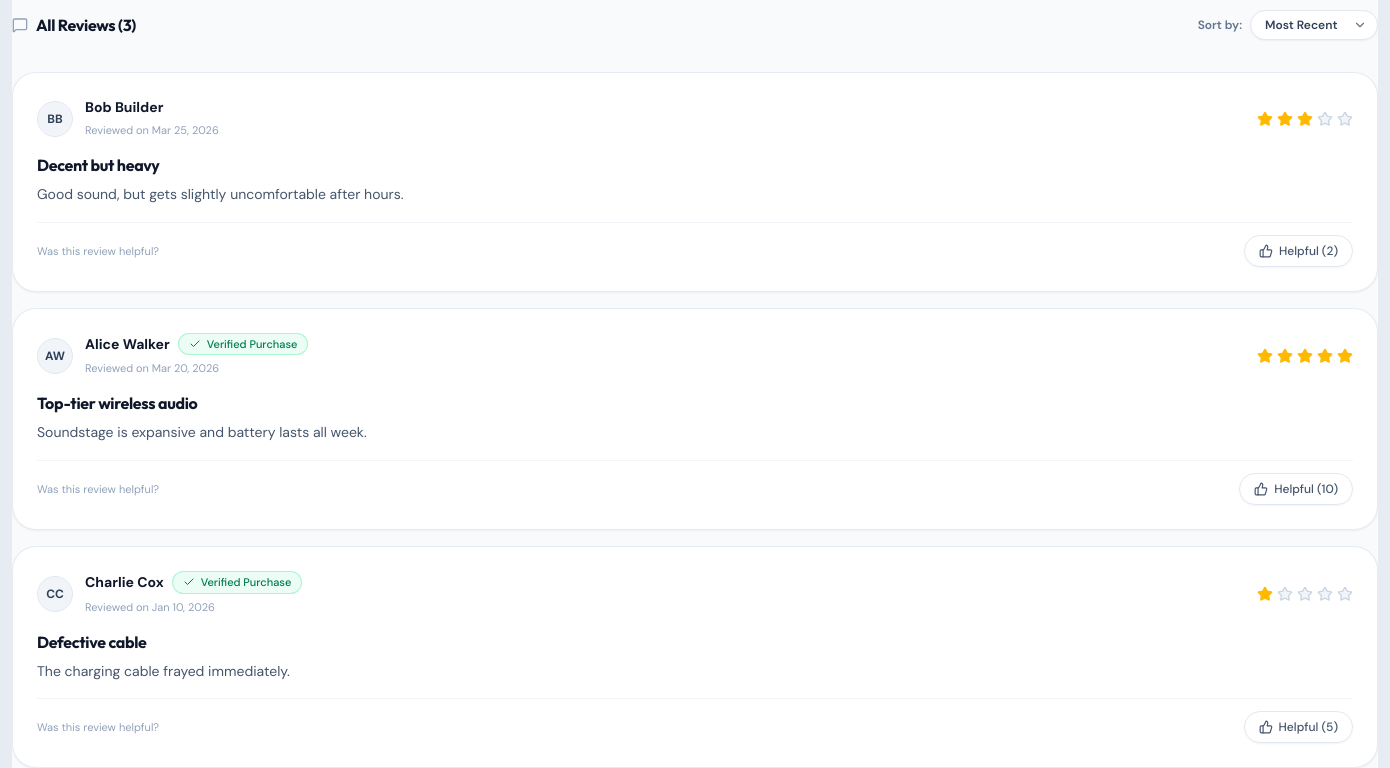
Test: ReviewList component › toggles helpful votes when clicking the helpful button
(page scrolled)
Click to vote helpful
Click the button with aria-label "Mark review as helpful (10 votes)": (1296, 489) x1=1239 y1=473 x2=1353 y2=505
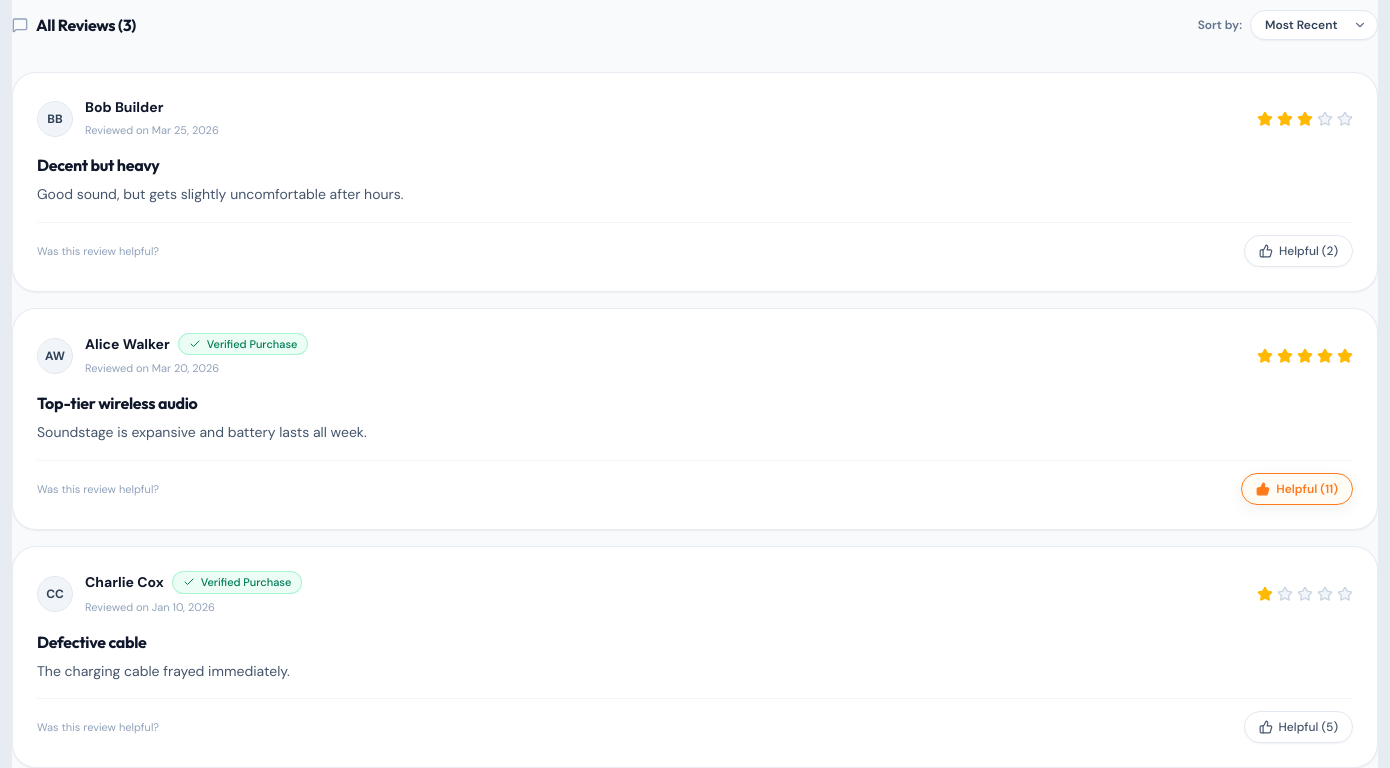
Expected: the button named "Mark review as helpful (10 votes)" reads "Helpful (11)"
Click again to un-vote
Click the button named "Mark review as helpful (10 votes)": (1297, 489) x1=1241 y1=473 x2=1353 y2=505
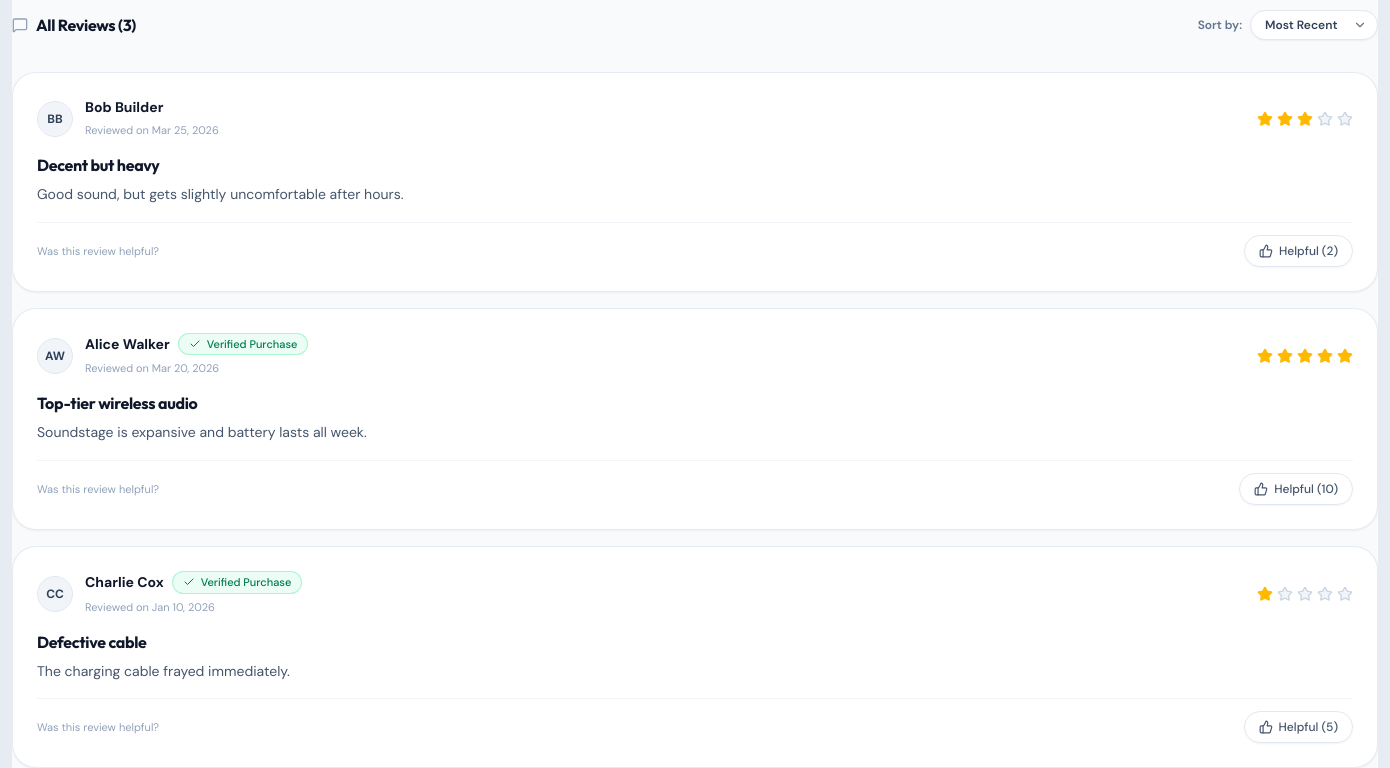
Expected: the button with aria-label "Mark review as helpful (10 votes)" reads "Helpful (10)", x1=1239 y1=473 x2=1353 y2=505
